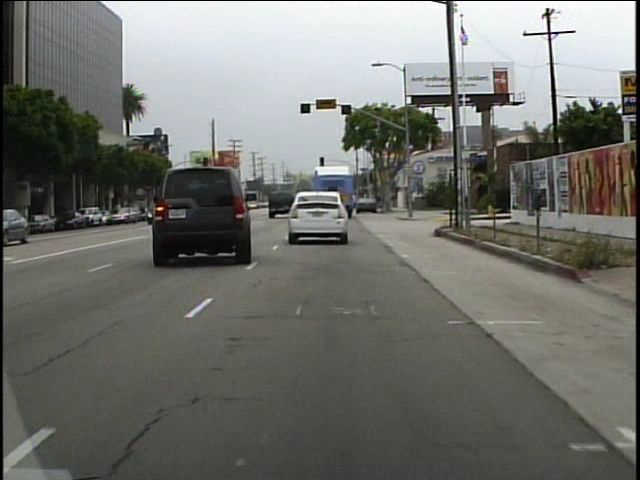person: (402, 189, 412, 214), (412, 187, 413, 214)
